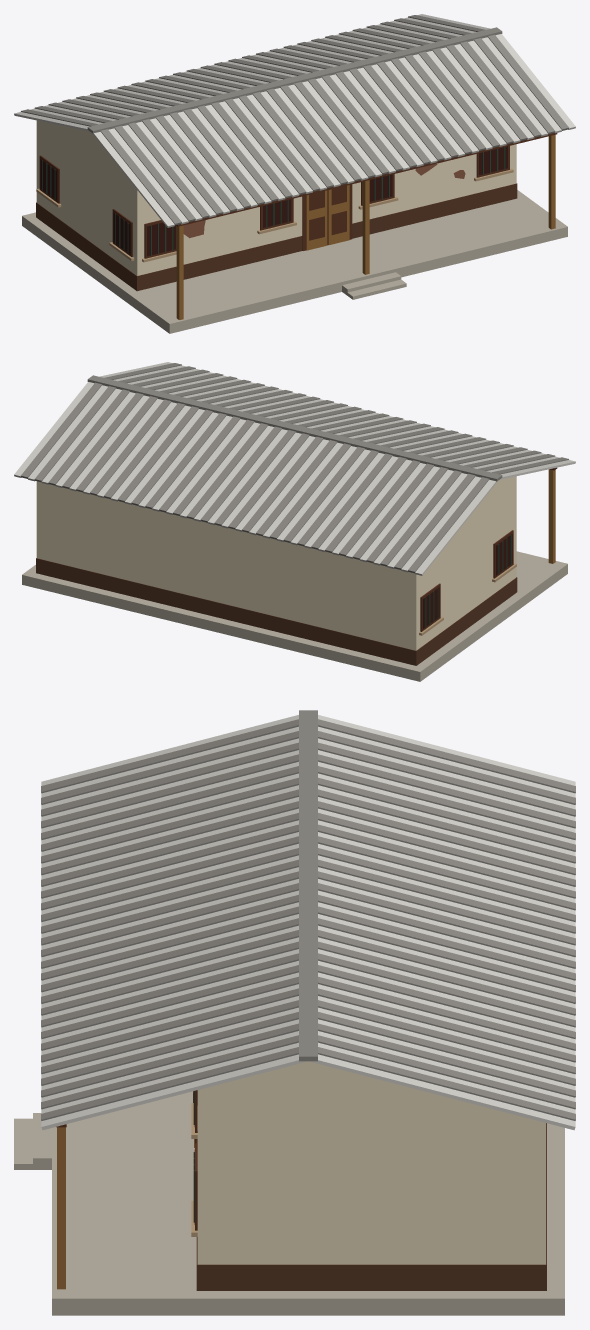
File: basic_school.glb
3 renders of one model, top to bottom at view 1: azimuth 30°, elevation 25°; view 2: azimuth 150°, elevation 25°; view 3: azimuth 270°, elevation 25°, orthographic. The views are drawn at different scales.
Visible parts, largest first — view 1: Roof, Walls, Base, Details; view 2: Roof, Walls, Base, Details; view 3: Roof, Walls, Base, Details.
Boxes of the visible parts, bbox=[...] form: Roof: bbox=[14, 14, 575, 227]; Walls: bbox=[36, 120, 517, 291]; Base: bbox=[22, 190, 567, 333]; Details: bbox=[36, 133, 557, 319]; Roof: bbox=[14, 362, 575, 575]; Walls: bbox=[36, 476, 517, 665]; Base: bbox=[22, 551, 567, 681]; Details: bbox=[419, 467, 557, 635]; Roof: bbox=[41, 710, 575, 1130]; Walls: bbox=[196, 1061, 546, 1290]; Base: bbox=[14, 1091, 564, 1315]; Details: bbox=[56, 1090, 197, 1289].
Size of what is drawn, in the model's own units: 12.94 by 4.59 by 8.87.
